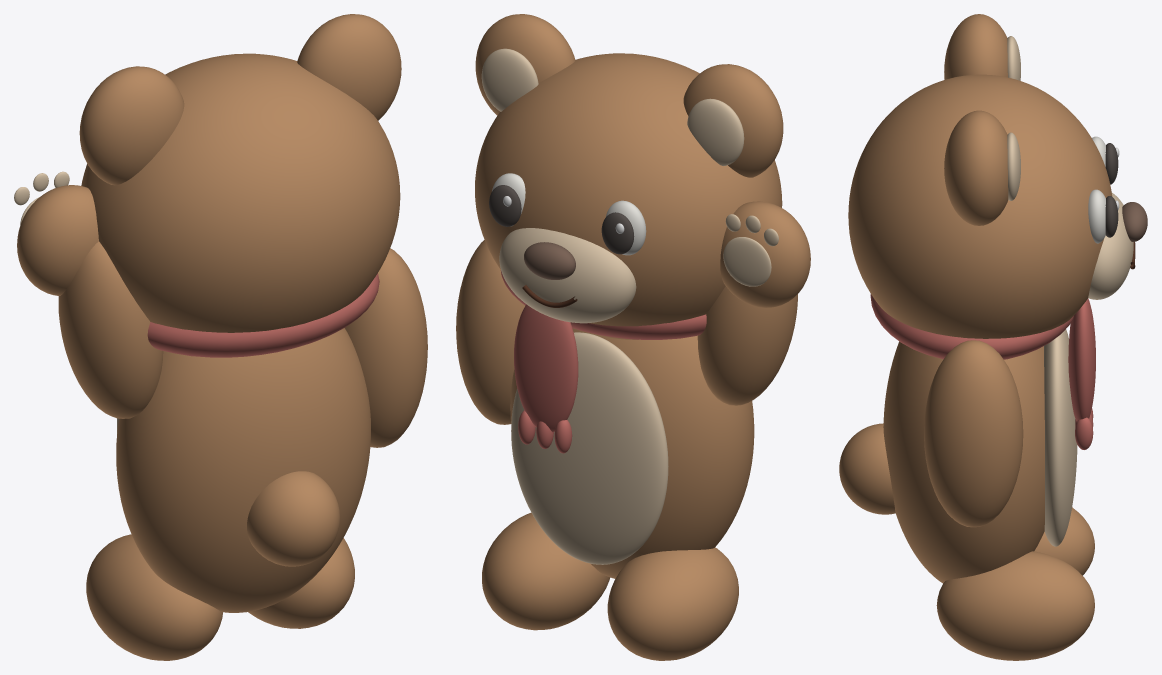
Rendered from rami_bear_friendly_wave.glb.
3 views of the same model, side by side, from view 1: azimuth 30°, elevation 25°; view 2: azimuth 150°, elevation 25°; view 3: azimuth 270°, elevation 25° (orthographic). The views are drawn at different scales.
Visible parts, largest first — view 1: head, body, right_arm_waving, foot_-1, left_arm_down, ear_-1, ear_1, tail, right_paw, scarf_wrap, foot_1; view 2: head, belly, body, foot_-1, foot_1, left_arm_down, right_arm_waving, muzzle, scarf_front, ear_-1, right_paw, ear_1 (+8 smaller); view 3: head, body, left_arm_down, foot_1, ear_1, belly, tail, ear_-1, scarf_wrap, scarf_front, muzzle, foot_-1 (+6 smaller).
Part boxes in pixels (x1,y1,x2,y2): head: (81,53,400,332); body: (116,328,370,612); right_arm_waving: (58,241,163,418); foot_-1: (86,534,222,660); left_arm_down: (345,248,427,447); ear_-1: (79,66,184,185); ear_1: (297,14,401,120); tail: (247,471,339,566); right_paw: (17,185,98,295); scarf_wrap: (147,273,379,357); foot_1: (248,538,354,628); head: (475,53,782,339); belly: (511,332,668,564); body: (510,328,754,578); foot_-1: (607,547,738,660); foot_1: (482,512,610,630); left_arm_down: (456,240,524,424); right_arm_waving: (697,286,797,405); muzzle: (499,228,636,323); scarf_front: (514,304,578,432); ear_-1: (683,64,783,177); right_paw: (720,201,810,307); ear_1: (475,14,575,115); head: (848,74,1112,338); body: (883,341,1044,583); left_arm_down: (924,340,1023,527); foot_1: (936,551,1094,660); ear_1: (944,110,1008,225); belly: (1044,329,1077,546); tail: (839,423,895,514); ear_-1: (944,14,1007,79); scarf_wrap: (870,294,1073,359); scarf_front: (1068,298,1095,421); muzzle: (1088,192,1133,299); foot_-1: (1034,507,1094,575).
Bounding box in the file's own units: 2.19 × 3.35 × 1.68.
